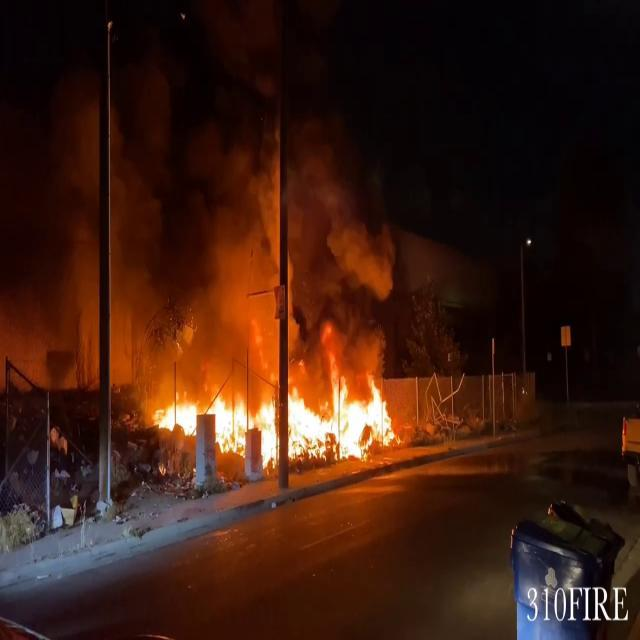Fire: (147, 366, 401, 470)
Smoke: (1, 38, 406, 377)
